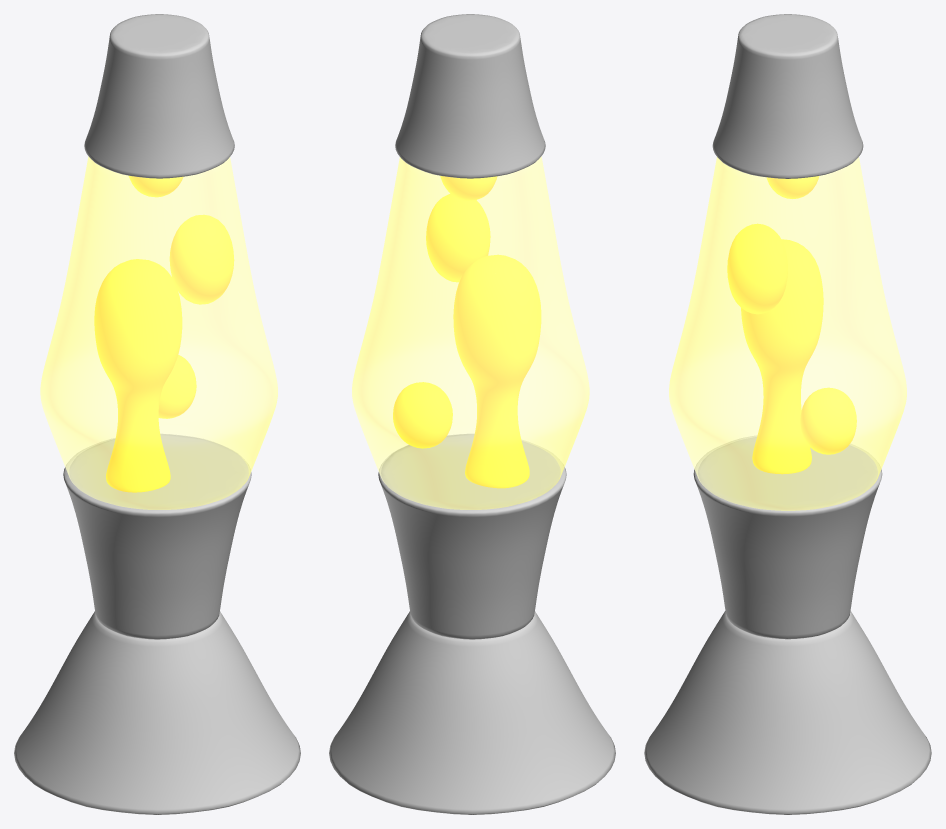
3 renders of one model, left to right at view 1: azimuth 30°, elevation 25°; view 2: azimuth 150°, elevation 25°; view 3: azimuth 270°, elevation 25°, orthographic.
Bounding box in the file's own units: 56.07 × 156 × 56.07.
